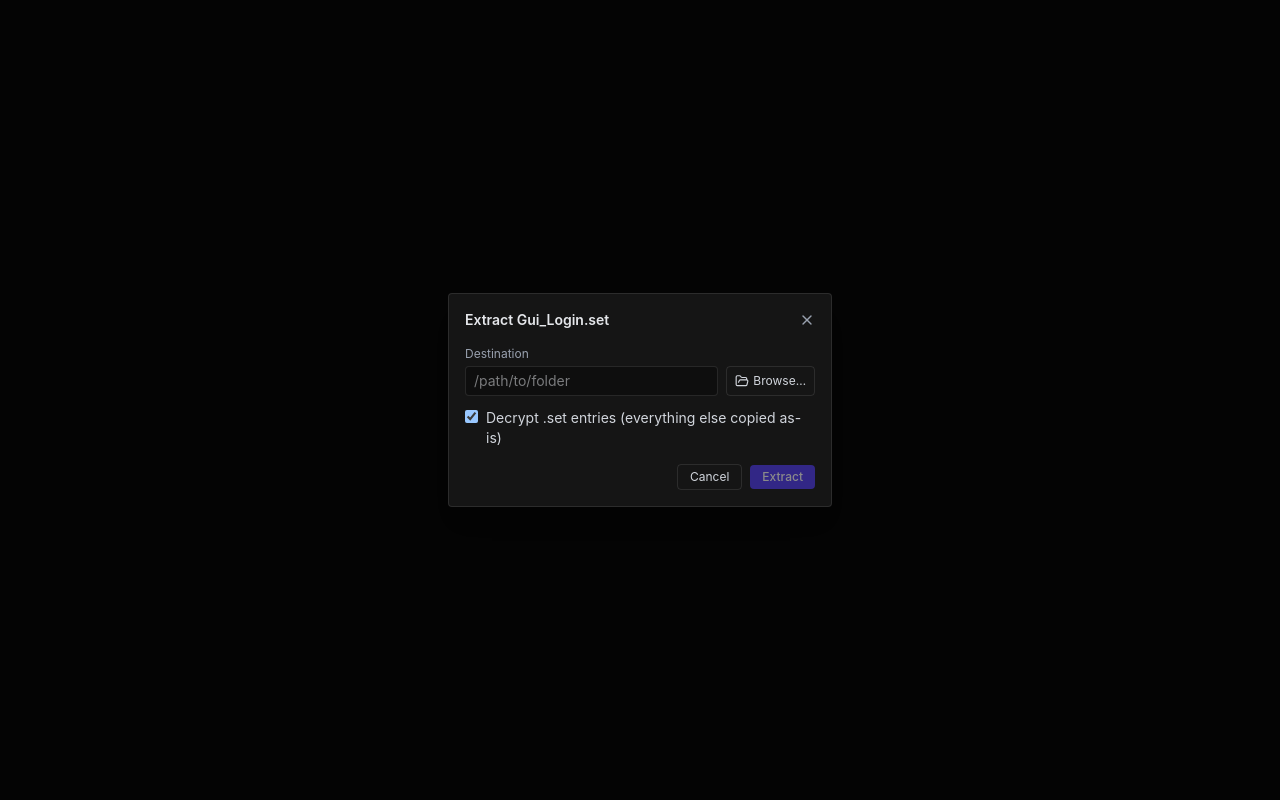
Test: ExtractDialog › browse picks a folder
The image size is (1280, 800).
Click the button "Browse…".
click(771, 381)  # box [726,366,815,396]
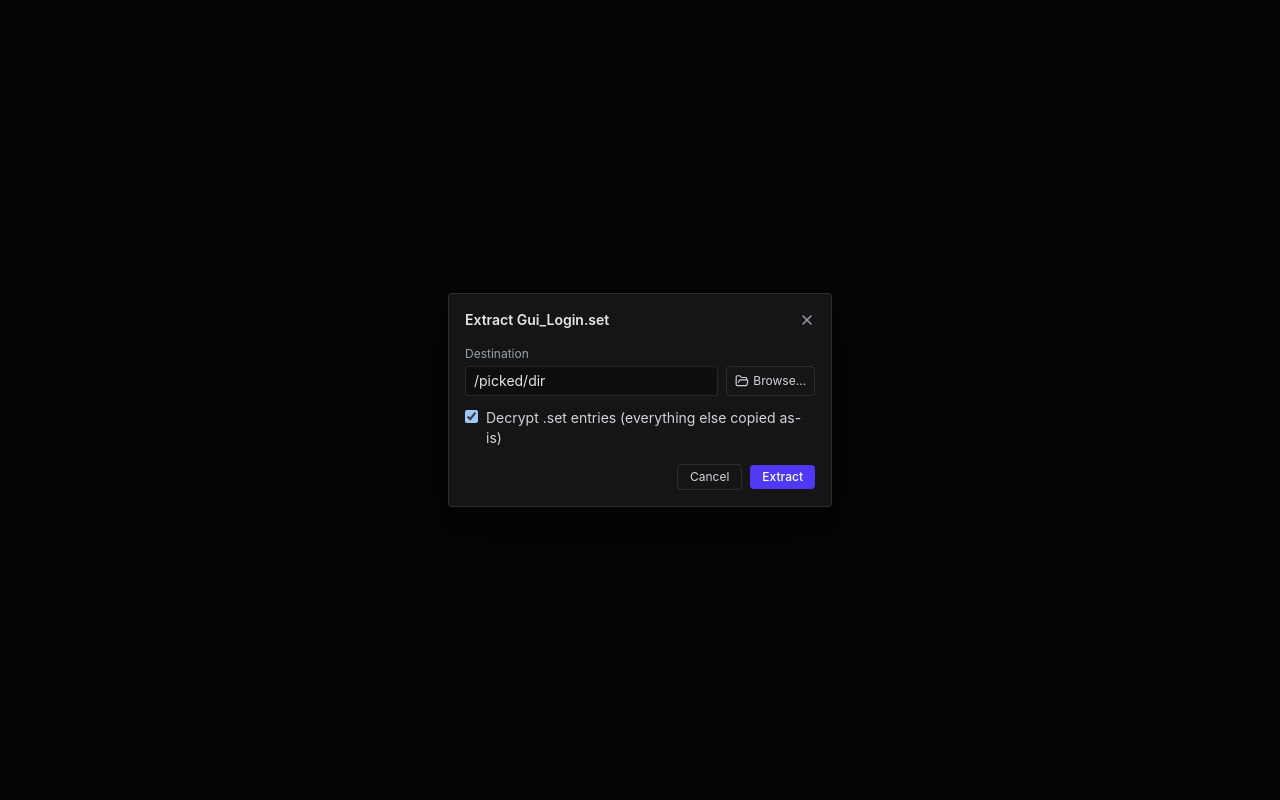
Now the field with placeholder "/path/to/folder" holds "/picked/dir", box [465,366,718,396]
